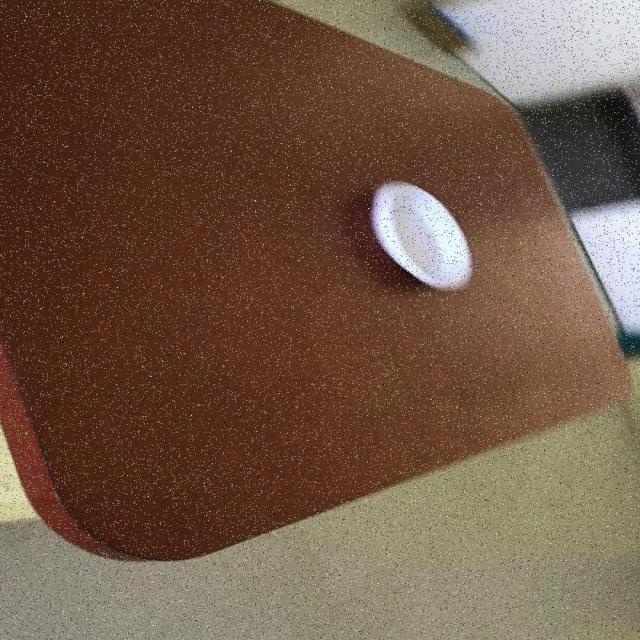Plate: (0, 0, 640, 561), (370, 178, 475, 291)
